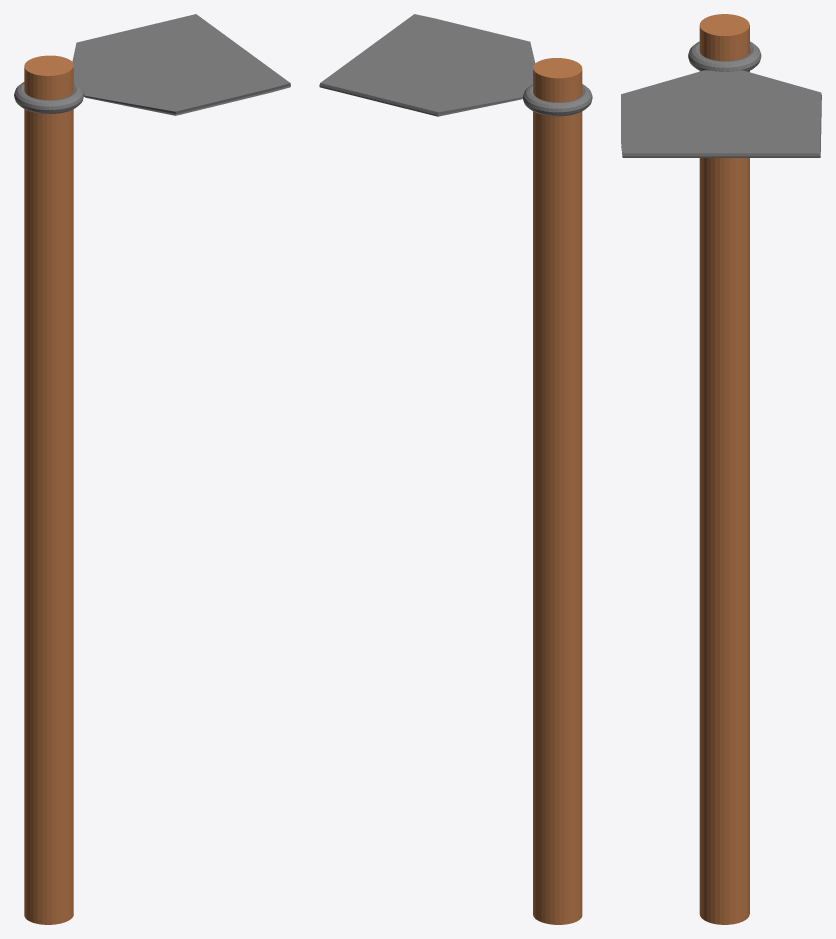
The model's file is hoe.fbx.
3 views of the same model, side by side, from view 1: azimuth 30°, elevation 25°; view 2: azimuth 150°, elevation 25°; view 3: azimuth 270°, elevation 25° (orthographic). The views are drawn at different scales.
Visible parts, largest first — view 1: Cylinder, Plane, Torus; view 2: Cylinder, Plane, Torus; view 3: Cylinder, Plane, Torus.
Part boxes in pixels (x1=…): Cylinder: x1=24, y1=55, x2=73, y2=924; Plane: x1=72, y1=14, x2=290, y2=115; Torus: x1=14, y1=82, x2=83, y2=113; Cylinder: x1=533, y1=58, x2=582, y2=924; Plane: x1=319, y1=14, x2=535, y2=116; Torus: x1=522, y1=84, x2=592, y2=116; Cylinder: x1=699, y1=14, x2=749, y2=924; Plane: x1=621, y1=70, x2=821, y2=157; Torus: x1=688, y1=41, x2=761, y2=71.
Bounding box in the file's own units: 64.76 × 235 × 48.14.
